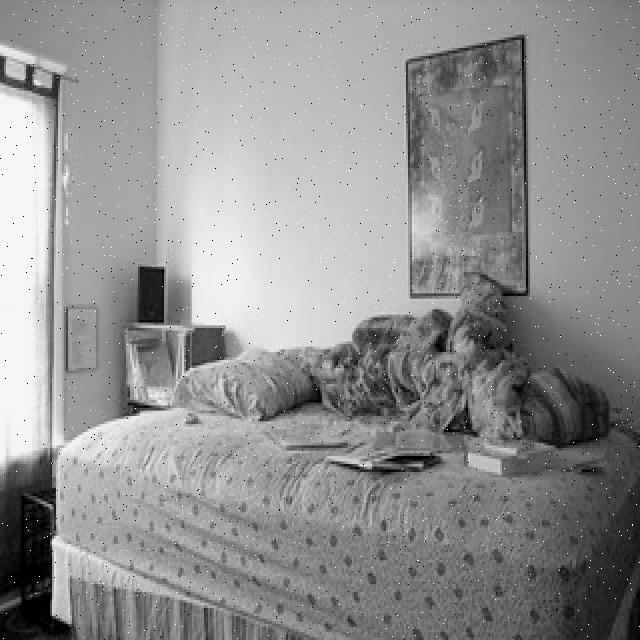bed: (95, 278, 632, 640)
